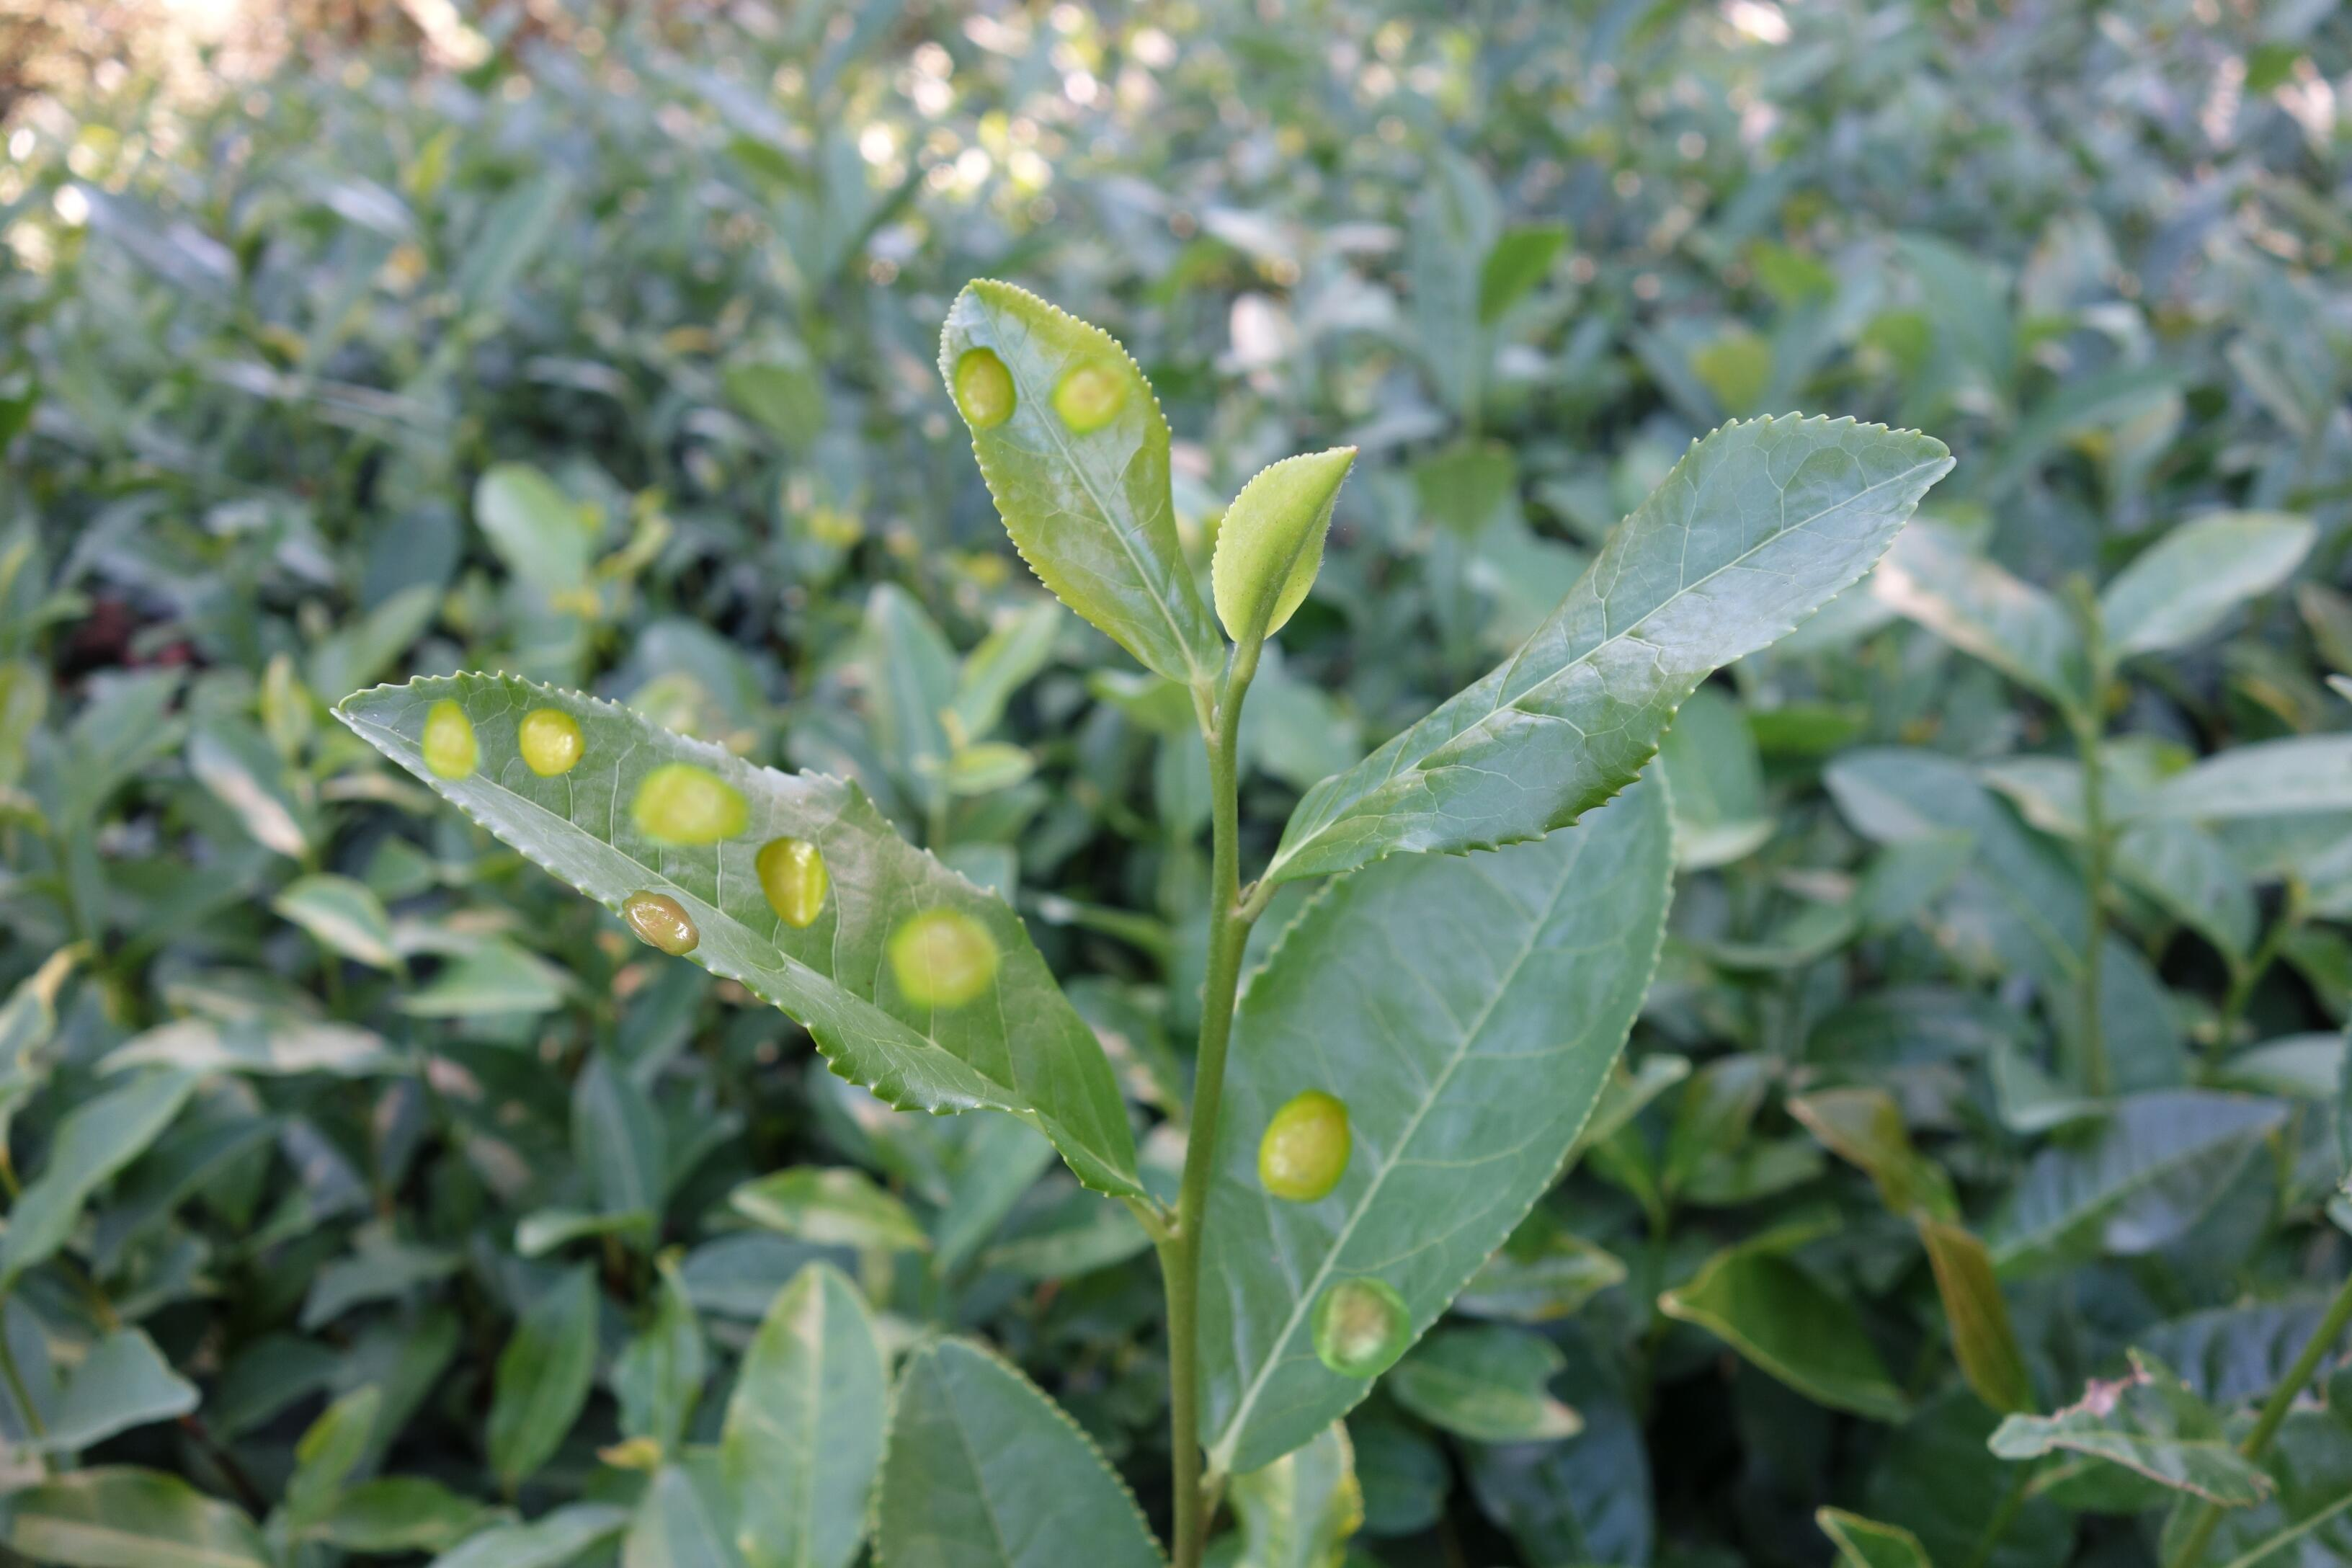chabing_high: (322, 670, 1160, 1216), (1193, 751, 1675, 1491), (936, 273, 1221, 691)
healthy: (1249, 409, 1962, 889), (1213, 443, 1358, 654)
